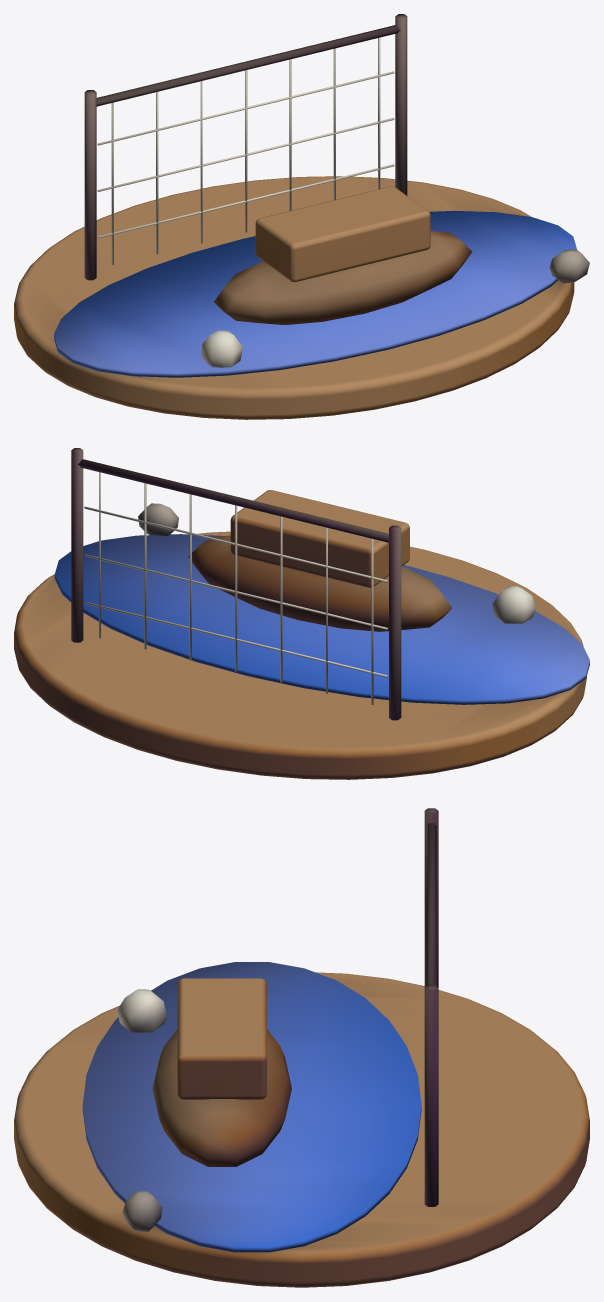
File: nets.glb
The picture shows the model from 3 angles, top to bottom: view 1: azimuth 30°, elevation 25°; view 2: azimuth 150°, elevation 25°; view 3: azimuth 270°, elevation 25°; orthographic projection. The views are drawn at different scales.
Visible parts, largest first — view 1: nets; view 2: nets; view 3: nets.
Part boxes in pixels (<box>): nets: <box>14,14,589,419</box>; nets: <box>14,448,589,779</box>; nets: <box>14,808,589,1287</box>.
Bounding box in the file's own units: 6.8 × 2.8 × 5.78.
